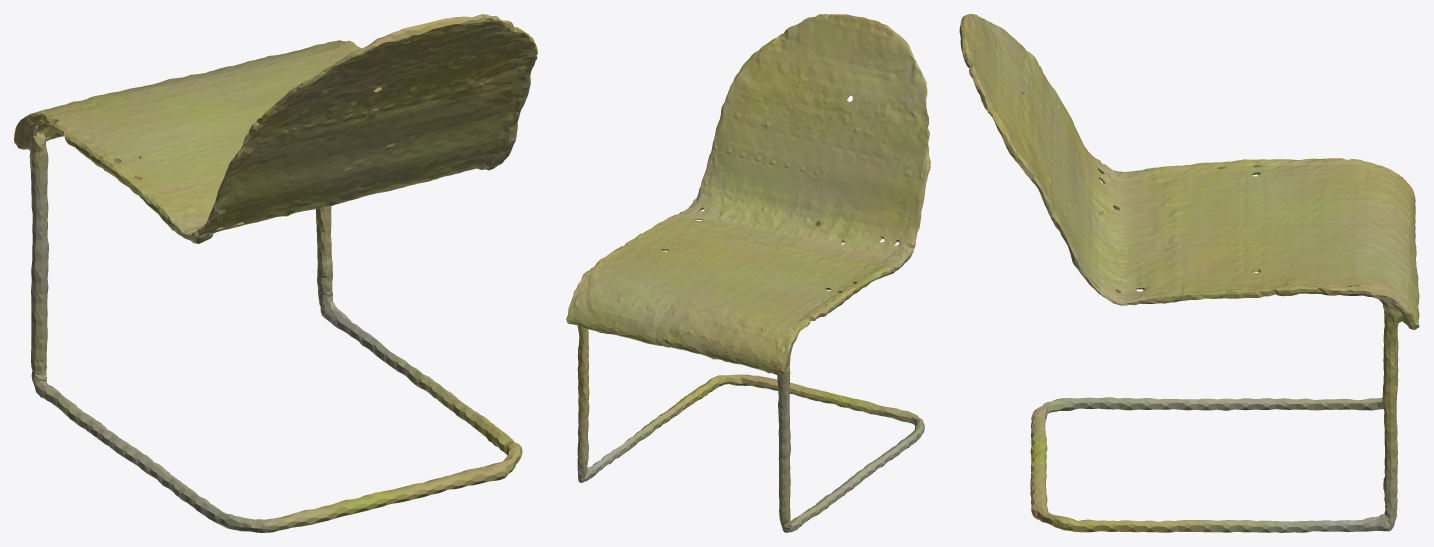
The picture shows the model from 3 angles, left to right: view 1: azimuth 30°, elevation 25°; view 2: azimuth 150°, elevation 25°; view 3: azimuth 270°, elevation 25°; orthographic projection. The views are drawn at different scales.
Parts seen in each view (by area): view 1: defaultobject; view 2: defaultobject; view 3: defaultobject.
Part boxes in pixels (x1,y1,x2,y2): defaultobject: [14, 14, 537, 532]; defaultobject: [566, 14, 930, 532]; defaultobject: [959, 14, 1419, 532].
Bounding box in the file's own units: 0.505 × 0.7911 × 0.7459.
